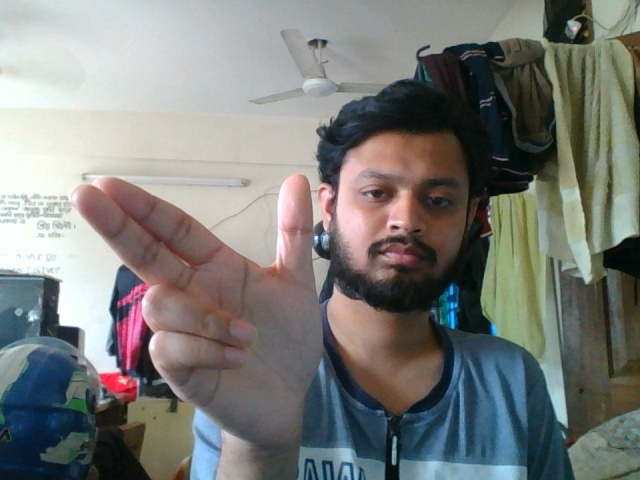jha: (71, 167, 335, 458)
